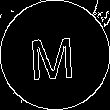M_N: (30, 28, 80, 82)
